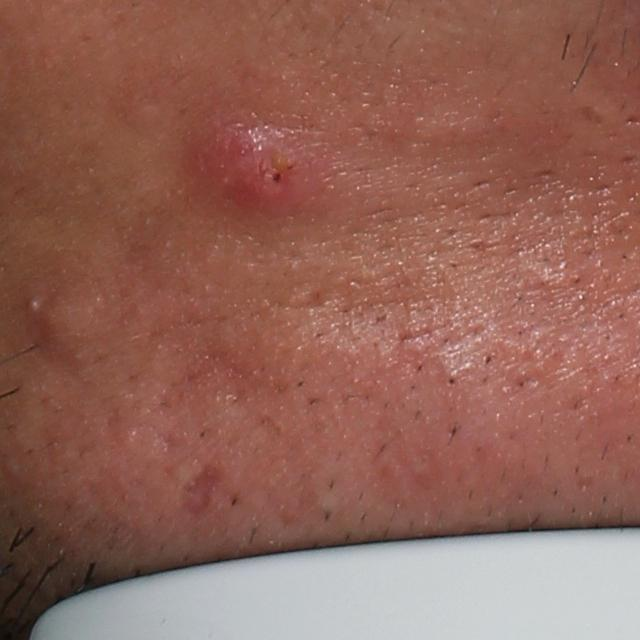atrophic_scar: (118, 223, 302, 451), (171, 462, 224, 516)
comedo: (23, 294, 41, 311)
hypertrophic_scar: (404, 98, 497, 156)
papule: (190, 110, 327, 217), (34, 298, 95, 365)
